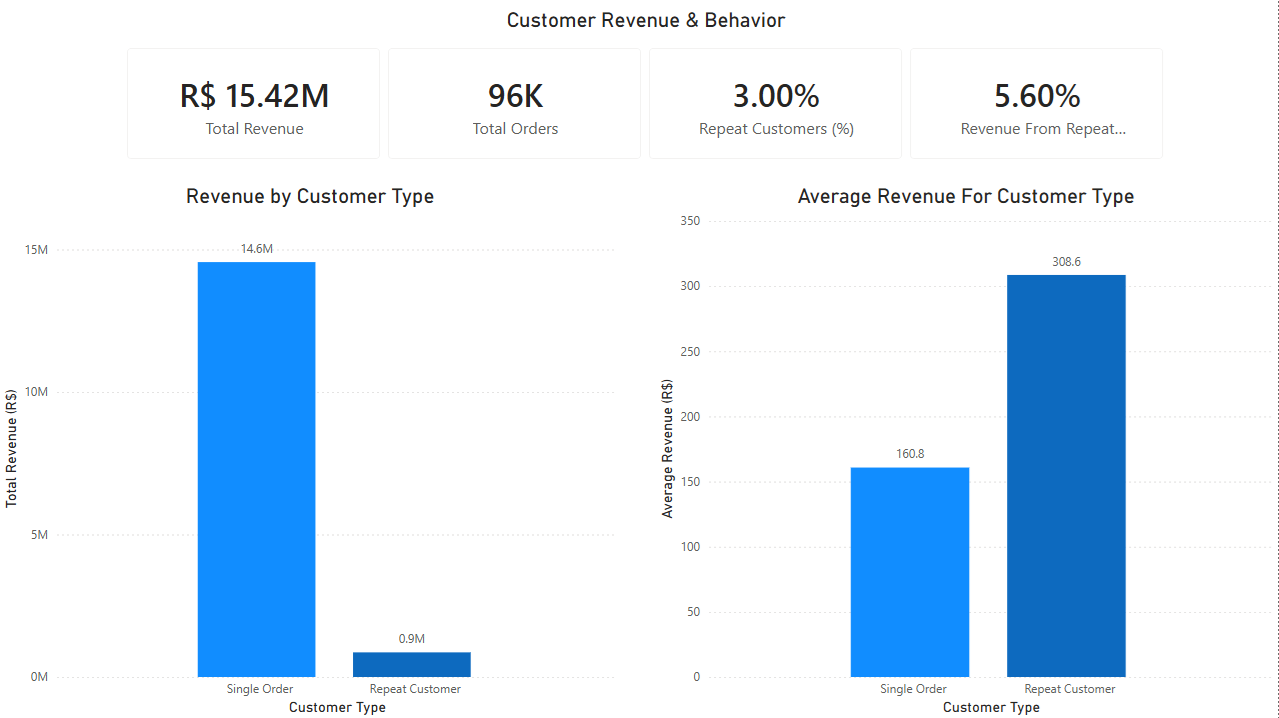

What the dashboard file says about the page in this screenshot:
{"tool":"powerbi","page":{"name":"Customer Behavior","canvas":[1280,720],"ordinal":0},"visuals":[{"type":"columnChart","title":"Revenue by Customer Type","fields":{"Category":["public customer_revenue.customer_type"],"Y":["Sum(public customer_revenue.total_revenue)"]},"box":[0,176,624,544],"z":1000},{"type":"cardVisual","title":"Customer Revenue & Behavior","fields":{"Data":["Sum(public customer_revenue.total_revenue)","Sum(customer_revenue.total_orders)","customer_revenue.% Repeat Customers","customer_revenue.% Revenue from Repeat Customers"]},"box":[112,0,1072,176],"z":2000},{"type":"columnChart","title":"Average Revenue For Customer Type","fields":{"Y":["Avg(customer_revenue.total_revenue)"],"Category":["customer_revenue.customer_type"]},"box":[656,176,624,544],"z":3000}]}

Visuals, with their boxes in screenshot pixels (x1, y1, x2, y2), scaled from the page's 1280x720 canvas onto the 1279x718 screenshot:
"Revenue by Customer Type" columnChart: bbox=(0, 176, 624, 717)
"Customer Revenue & Behavior" cardVisual: bbox=(112, 0, 1183, 176)
"Average Revenue For Customer Type" columnChart: bbox=(655, 176, 1278, 717)
